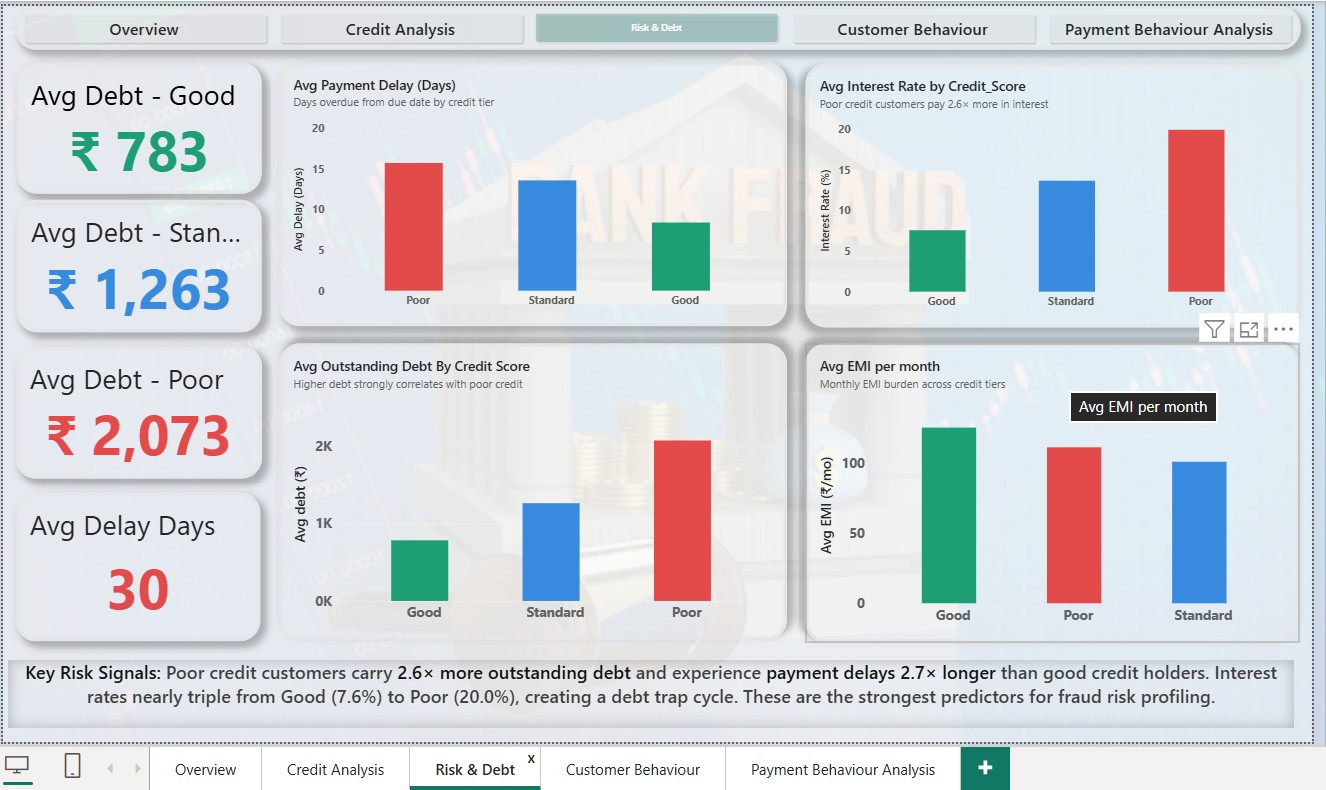

Layout of this report page (visuals, bound fields, positions):
{"tool":"powerbi","page":{"name":"Risk & Debt","canvas":[1920,1080],"ordinal":2},"visuals":[{"type":"card","title":"Avg Debt - Good","fields":{"Values":["paisabazar_bank_fraud_detection_project-dataset.Avg Debt Good"]},"box":[20.2,82.5,359.5,192.6],"z":0},{"type":"card","title":"Avg Debt - Poor","fields":{"Values":["paisabazar_bank_fraud_detection_project-dataset.Avg Debt Poor"]},"box":[18.3,498.9,361.3,194.4],"z":1000},{"type":"card","title":"Avg Debt - Standard","fields":{"Values":["paisabazar_bank_fraud_detection_project-dataset.Avg Debt Standard"]},"box":[20.2,284.3,359.5,194.4],"z":3000},{"type":"clusteredColumnChart","title":"Avg Outstanding Debt By Credit Score","fields":{"Y":["paisabazar_bank_fraud_detection_project-dataset.Avg Outstanding Debt"],"Category":["paisabazar_bank_fraud_detection_project-dataset.Credit_Score"]},"box":[404.7,495.6,744.5,435],"z":4000},{"type":"clusteredColumnChart","fields":{"Category":["paisabazar_bank_fraud_detection_project-dataset.Credit_Score"],"Y":["paisabazar_bank_fraud_detection_project-dataset.Avg Interest Rate"]},"box":[1177.6,84.4,724.5,387],"z":5000},{"type":"clusteredColumnChart","title":"Avg Payment Delay (Days)","fields":{"Category":["paisabazar_bank_fraud_detection_project-dataset.Credit_Score"],"Y":["paisabazar_bank_fraud_detection_project-dataset.Avg Delayed Payments"]},"box":[404.7,82.2,744.5,387.4],"z":6000},{"type":"clusteredColumnChart","title":"Avg EMI per month","fields":{"Category":["paisabazar_bank_fraud_detection_project-dataset.Credit_Score"],"Y":["paisabazar_bank_fraud_detection_project-dataset.Avg EMI"]},"box":[1177.6,495.2,724.5,438.4],"z":7000},{"type":"textbox","box":[7.3,959.3,1887.4,100.9],"z":8000},{"type":"card","title":"Avg Delay Days","fields":{"Values":["paisabazar_bank_fraud_detection_project-dataset.Avg Delay Poor"]},"box":[18.3,713.5,359.5,218.3],"z":9000},{"type":"pageNavigator","box":[18.3,0,1885.6,64.2],"z":9001}]}

Visuals, with their boxes on the page's 1920x1080 design canvas (x1, y1, x2, y2). These are canvas units, not pixel positions in the 1326x790 screenshot, which may show the page scaled, cropped or inside an application window:
"Avg Debt - Good" card: left=20, top=82, right=380, bottom=275
"Avg Debt - Poor" card: left=18, top=499, right=380, bottom=693
"Avg Debt - Standard" card: left=20, top=284, right=380, bottom=479
"Avg Outstanding Debt By Credit Score" clusteredColumnChart: left=405, top=496, right=1149, bottom=931
clusteredColumnChart - paisabazar_bank_fraud_detection_project-dataset.Credit_Score x paisabazar_bank_fraud_detection_project-dataset.Avg Interest Rate: left=1178, top=84, right=1902, bottom=471
"Avg Payment Delay (Days)" clusteredColumnChart: left=405, top=82, right=1149, bottom=470
"Avg EMI per month" clusteredColumnChart: left=1178, top=495, right=1902, bottom=934
textbox: left=7, top=959, right=1895, bottom=1060
"Avg Delay Days" card: left=18, top=714, right=378, bottom=932
pageNavigator: left=18, top=0, right=1904, bottom=64
